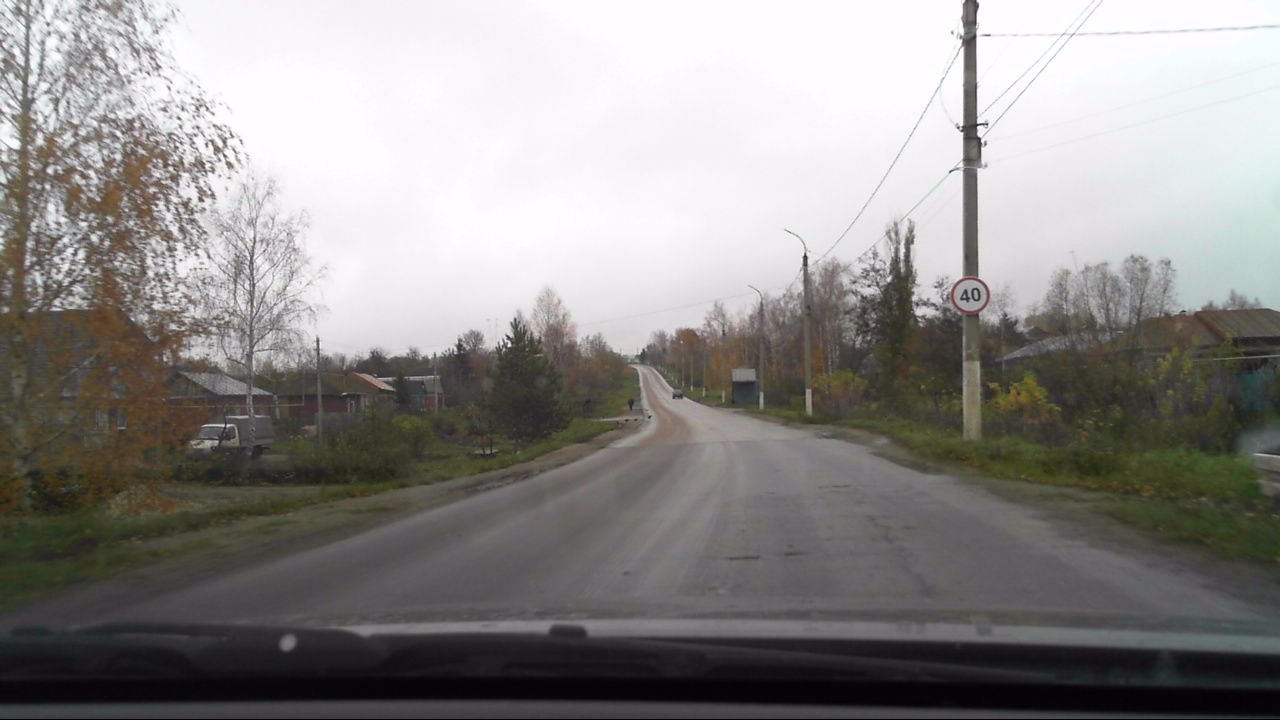speed_warning_40: (949, 275, 992, 314)
